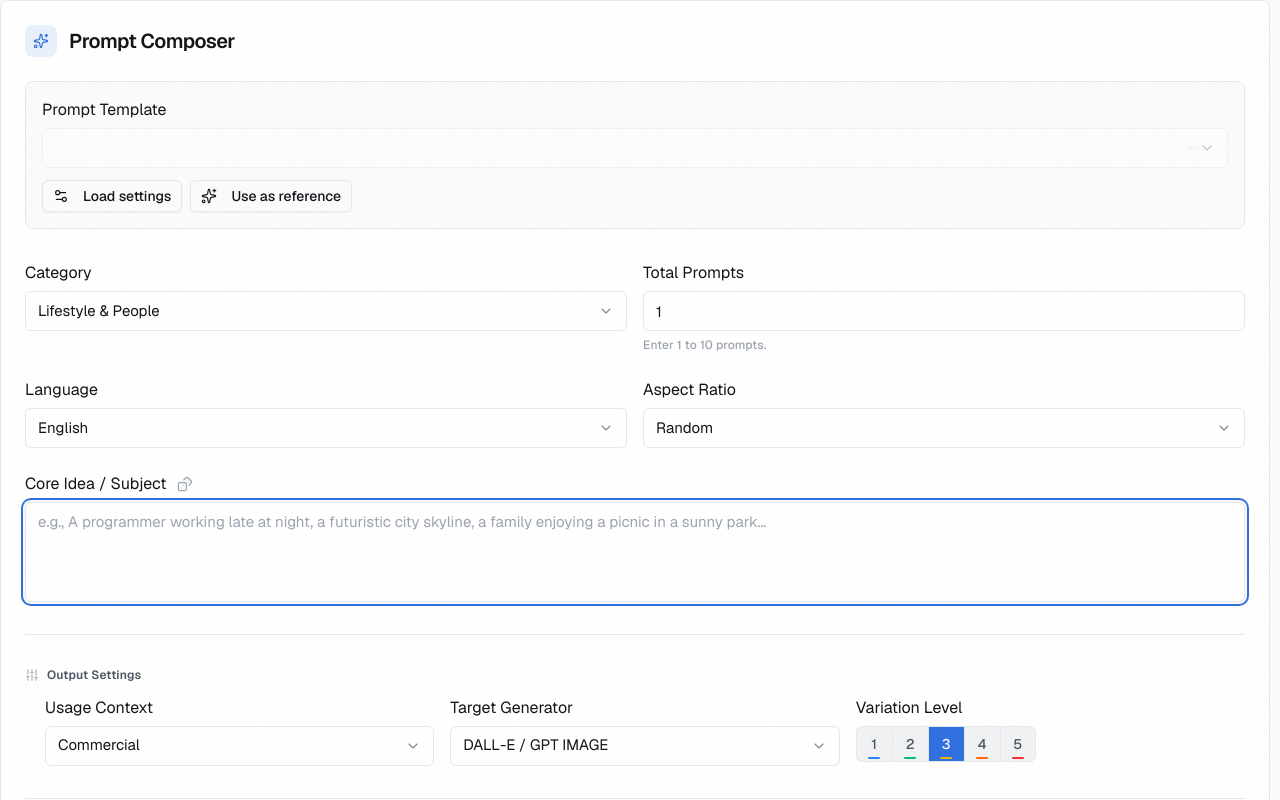
Scenario: GeneratorForm UX & Controls › renders category as searchable combobox while language is a normal select
Click the button named "Category" at (99, 310), box x1=25 y1=291 x2=627 y2=331
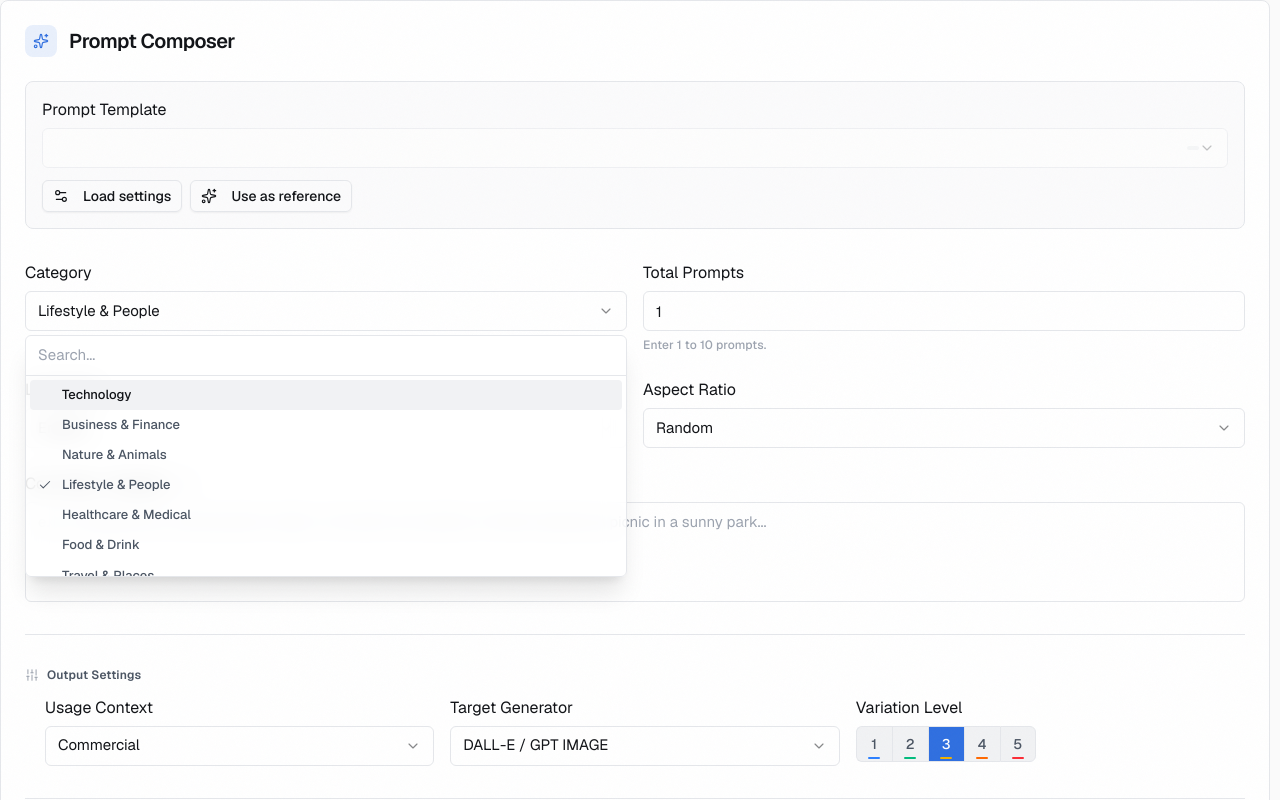
Expected: the dropdown with placeholder "Search..." is shown
Note: Filter category options
Type "Tech" into the dropdown with placeholder "Search..." at (326, 356), box x1=26 y1=336 x2=626 y2=376
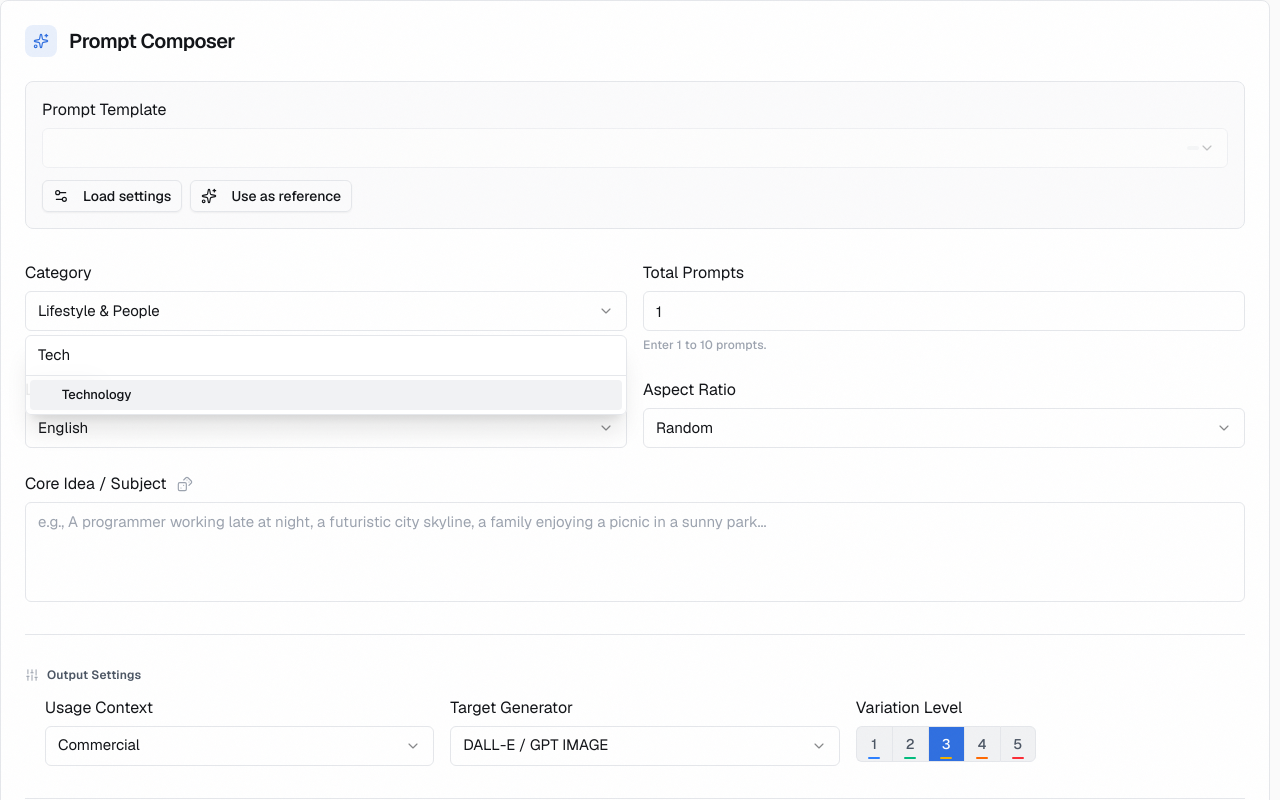
Expected: the text "Technology" is shown, x1=62 y1=386 x2=131 y2=404
Note: Open language select dropdown and verify no search input is inside it
Click the dropdown named "Language" at (63, 427), box x1=25 y1=408 x2=627 y2=448
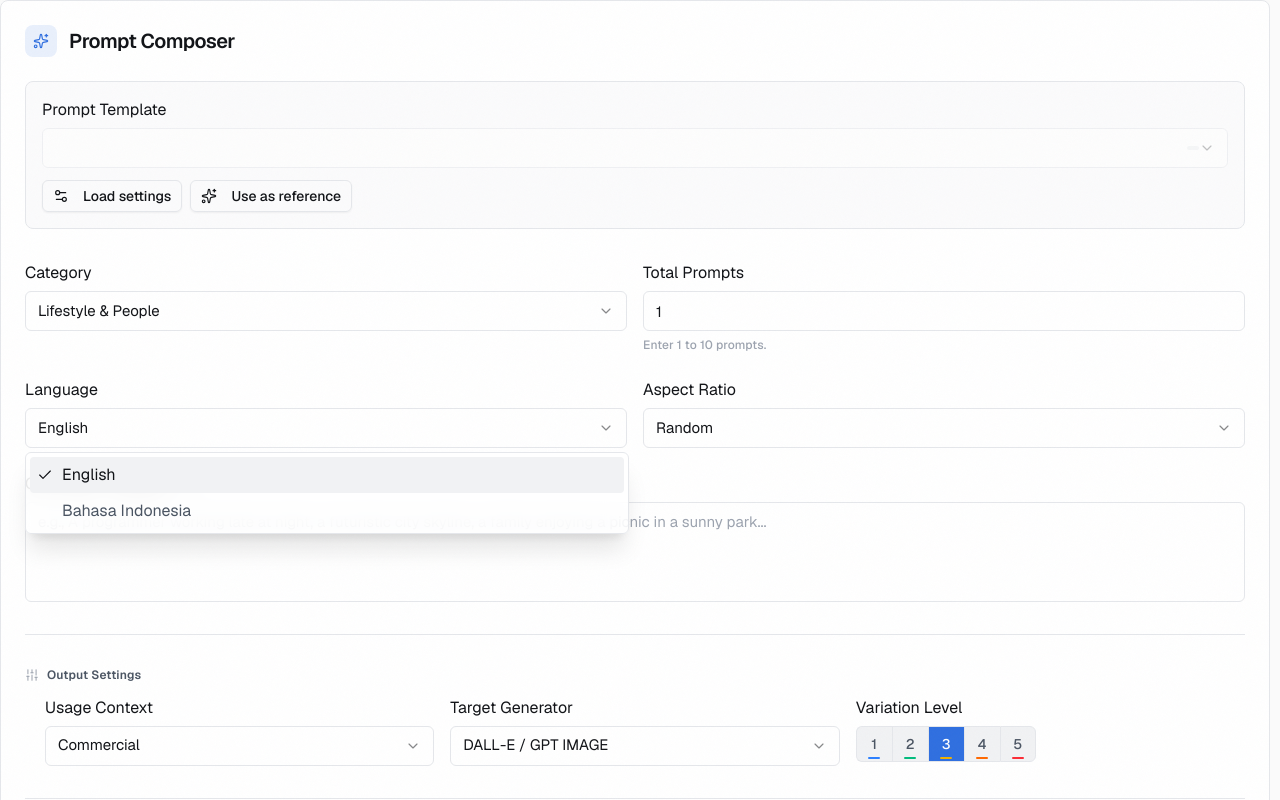
Expected: the option "English" is shown, x1=30 y1=457 x2=624 y2=493
Expected: the dropdown with placeholder "Search..." is gone
